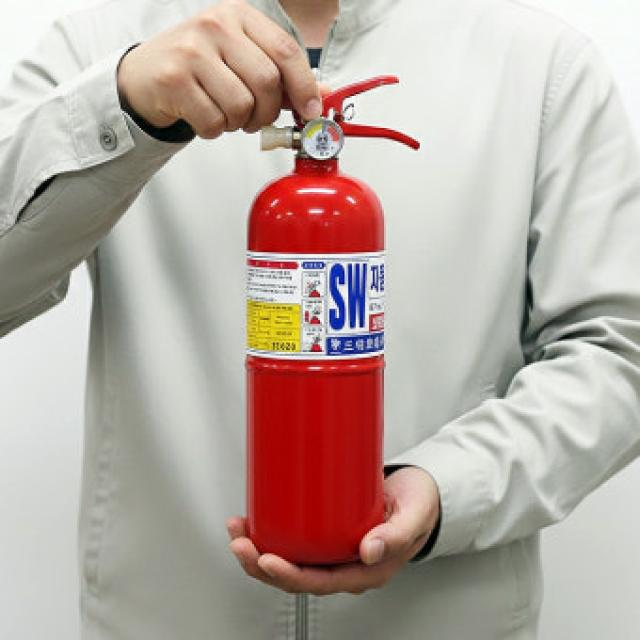pressure gauge: (302, 119, 344, 159)
